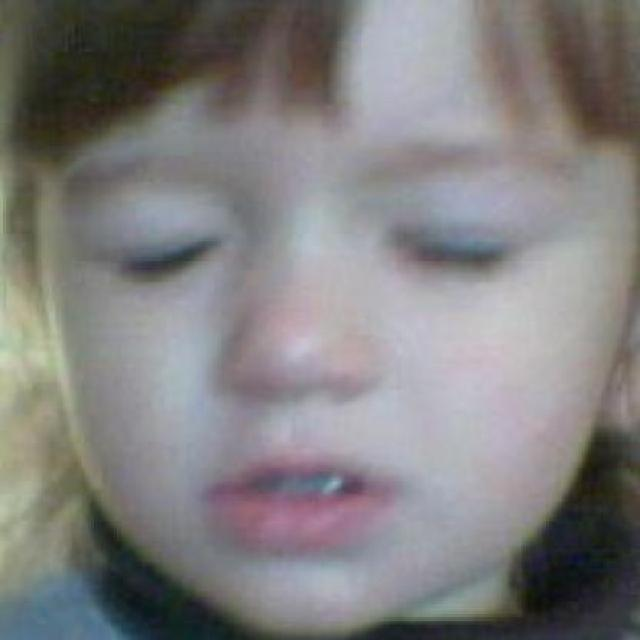drowsy: (397, 222, 509, 288), (124, 234, 224, 288)
